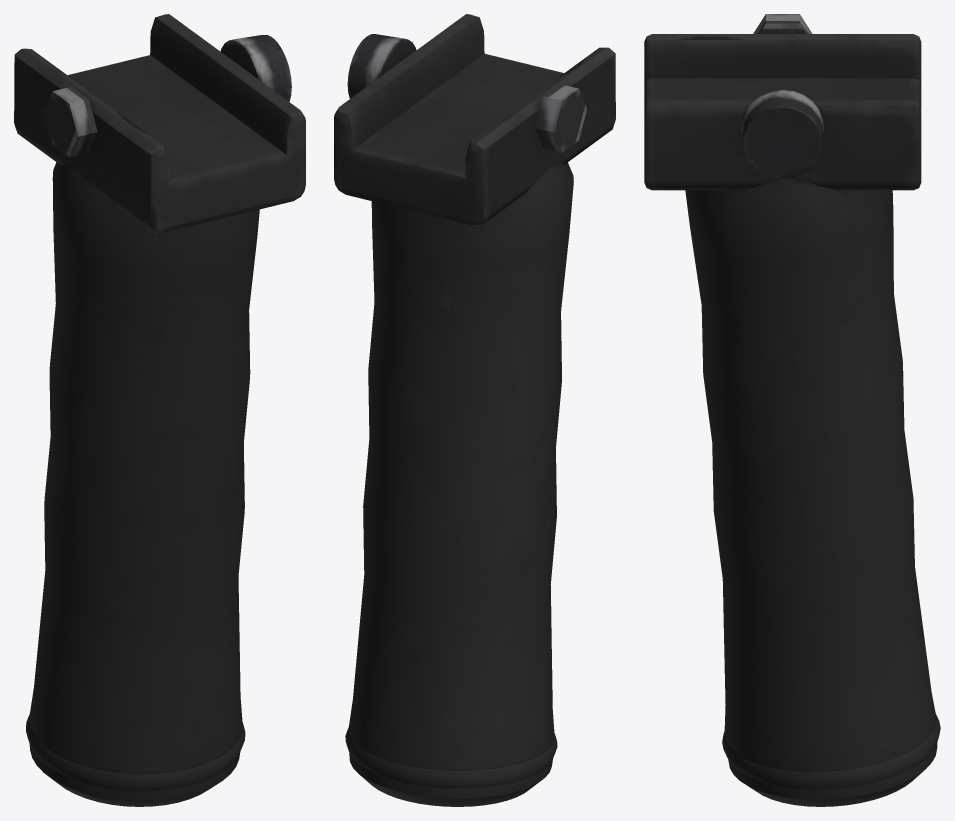
File: grip_vertical.glb
3 views of the same model, side by side, from view 1: azimuth 30°, elevation 25°; view 2: azimuth 150°, elevation 25°; view 3: azimuth 270°, elevation 25° (orthographic). The views are drawn at different scales.
Parts seen in each view (by area): view 1: body; view 2: body; view 3: body.
Boxes of the visible parts, x1,y1,x2,y2 form: body: (14,14,305,806); body: (334,14,615,806); body: (644,14,940,806).
Bounding box in the file's own units: 0.0386 × 0.1274 × 0.0471.
Materials: 1 (1 with a texture image).
